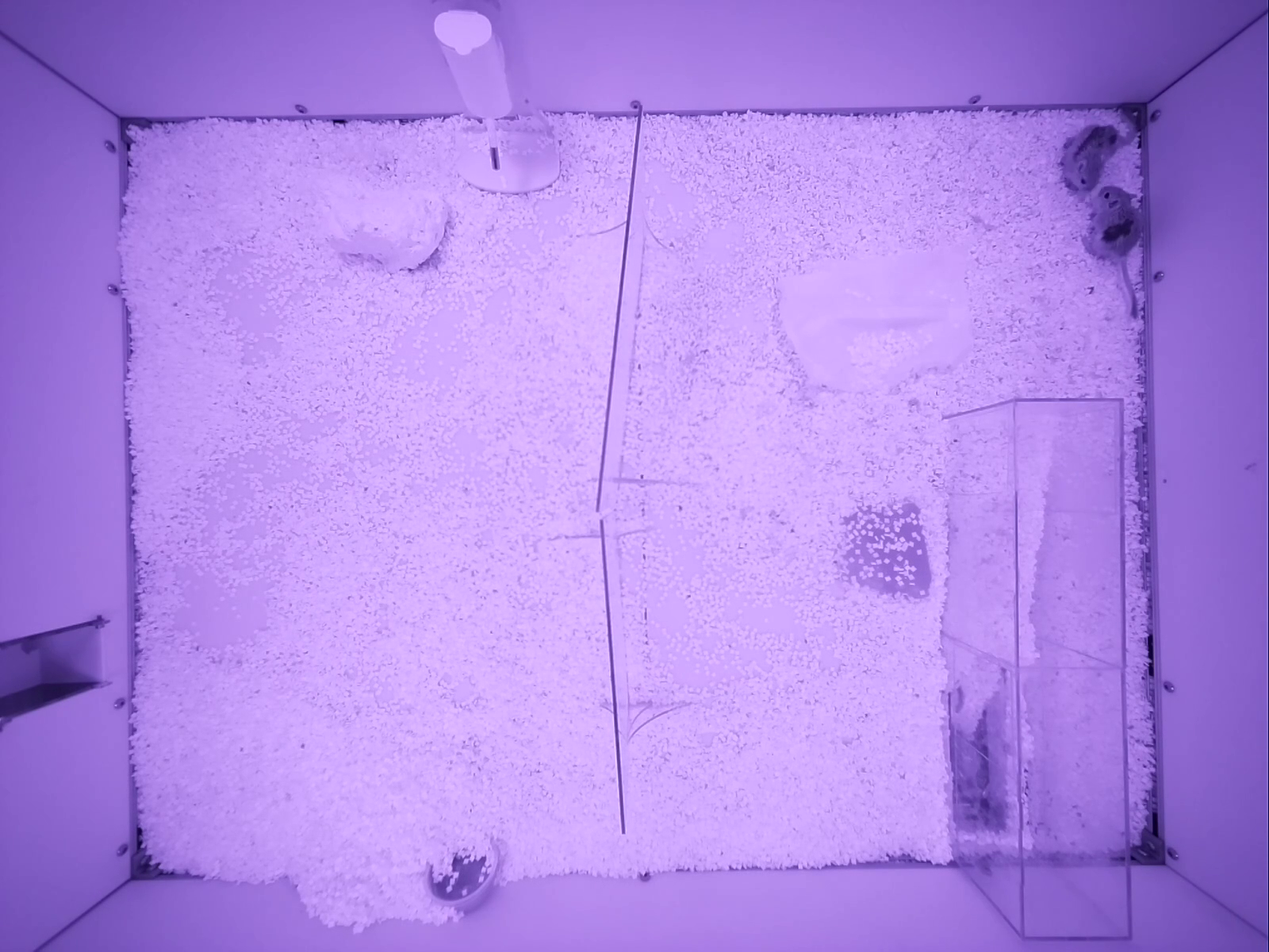adult_back: (1085, 186, 1141, 318), (1061, 125, 1123, 194)
